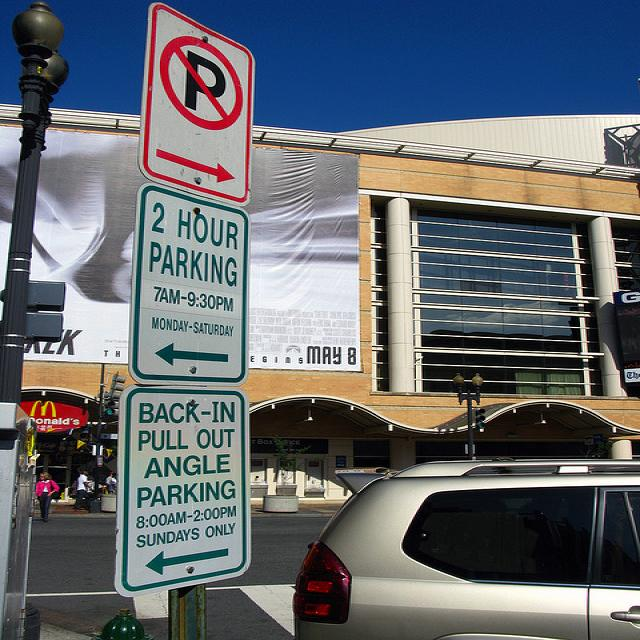Vehicle: (292, 459, 640, 640)
